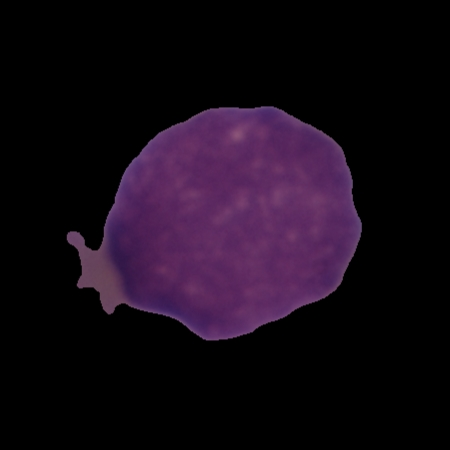HEM: (63, 101, 367, 346)
